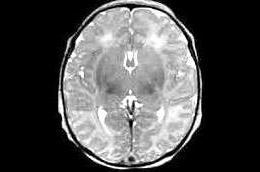Normal_Brain: (1, 1, 260, 172)
